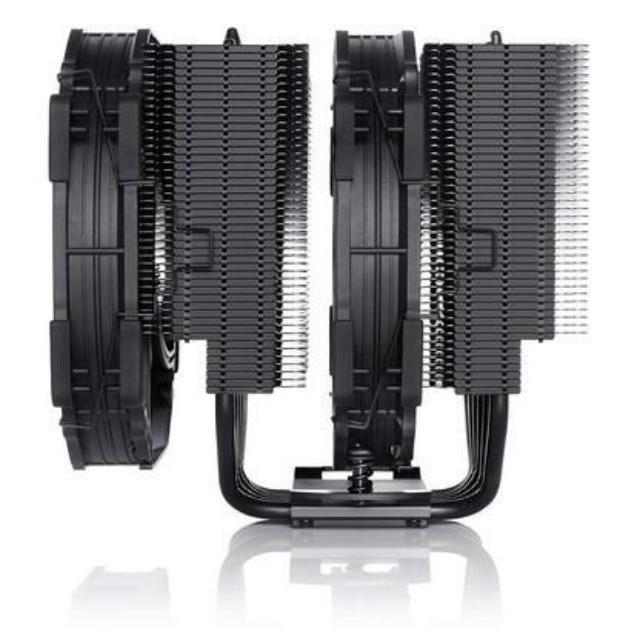CPU_Fan: (48, 27, 592, 533)
